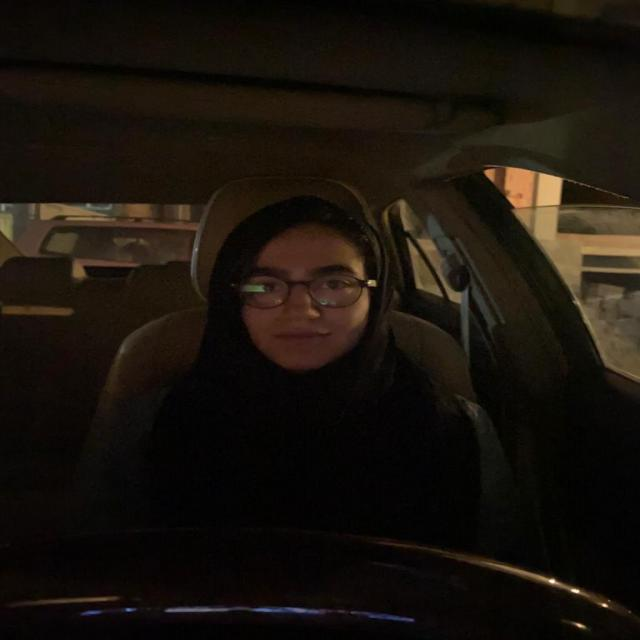person: (230, 213, 388, 372)
